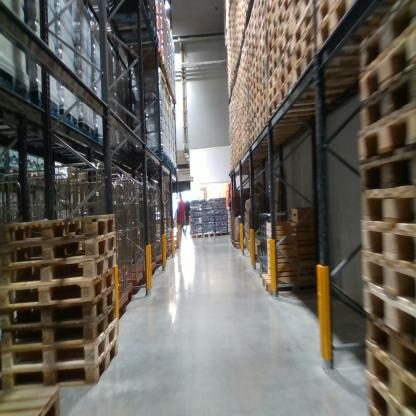pallet: (1, 339, 123, 389), (2, 320, 120, 371), (4, 303, 120, 350), (3, 268, 121, 310), (1, 208, 115, 251), (355, 1, 414, 81), (3, 287, 118, 327), (357, 26, 413, 104), (3, 251, 118, 287), (359, 60, 412, 135), (1, 231, 120, 264), (364, 336, 414, 414), (316, 3, 396, 51), (360, 281, 415, 350), (361, 97, 415, 164), (363, 310, 411, 385), (359, 216, 413, 280), (357, 174, 414, 231), (293, 46, 366, 89), (360, 254, 413, 313), (358, 145, 414, 194), (279, 73, 354, 107), (1, 380, 70, 414), (361, 368, 407, 415), (267, 96, 354, 116), (262, 271, 327, 296), (97, 25, 161, 46), (104, 6, 157, 28), (293, 22, 318, 66), (292, 3, 315, 50), (5, 66, 34, 100), (260, 114, 307, 133), (34, 91, 58, 123), (276, 8, 293, 44), (315, 2, 336, 31), (279, 37, 297, 67), (277, 22, 293, 55), (292, 2, 312, 28), (79, 121, 102, 143), (59, 104, 80, 128), (276, 3, 293, 32), (266, 16, 277, 46), (267, 1, 280, 25), (267, 29, 279, 54), (269, 67, 280, 94), (230, 238, 250, 252), (268, 57, 280, 80), (270, 43, 278, 72), (260, 44, 270, 63), (260, 52, 268, 74), (259, 65, 267, 86), (269, 84, 277, 104), (258, 16, 268, 32), (259, 29, 268, 46), (259, 1, 268, 18), (259, 77, 266, 98), (259, 90, 267, 108), (215, 228, 229, 238), (203, 228, 215, 239), (259, 102, 268, 116), (187, 232, 203, 239), (256, 2, 263, 7)
